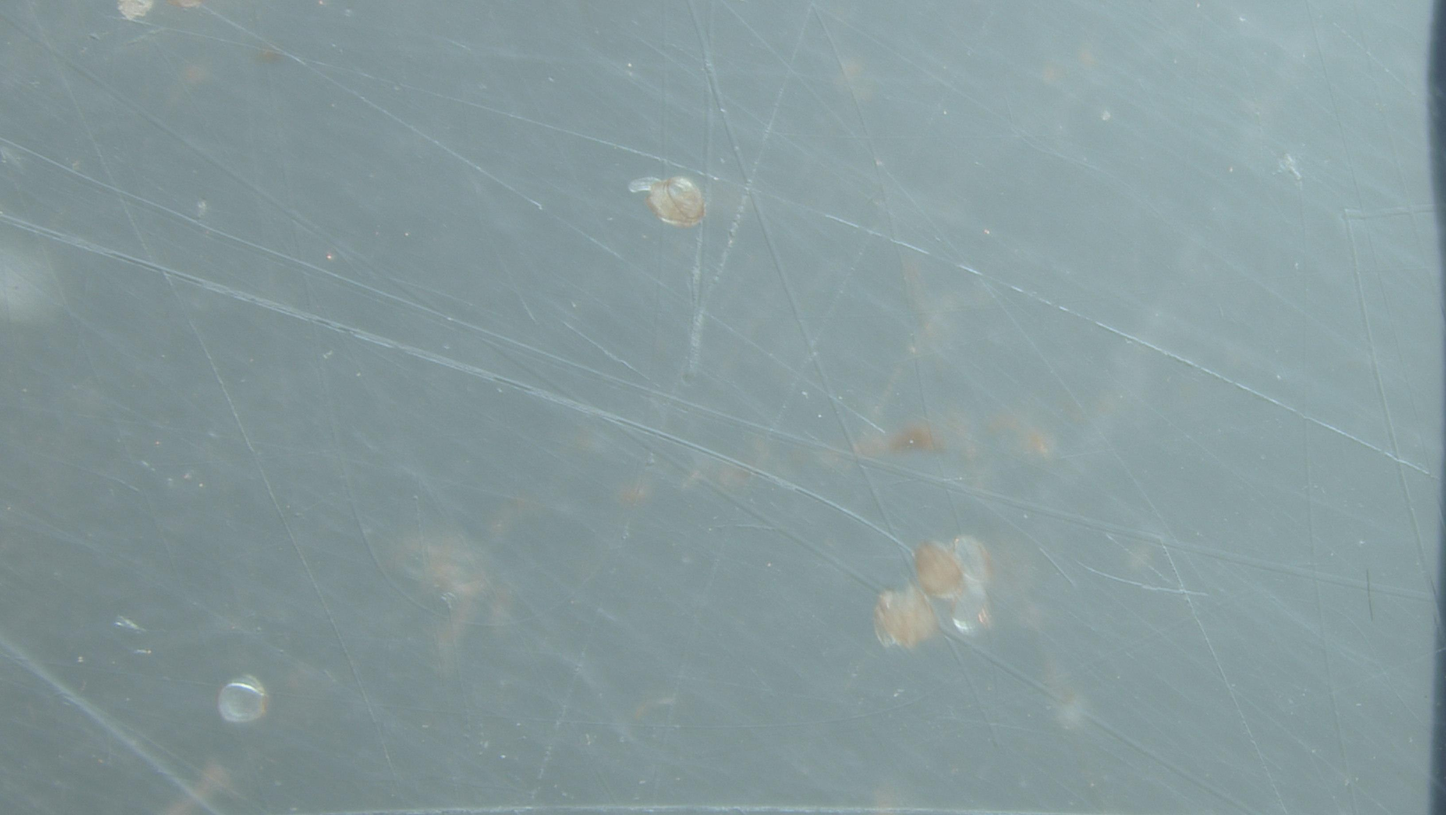dead: (945, 578, 990, 636), (218, 676, 269, 724), (955, 537, 992, 586)
live: (875, 584, 937, 648), (629, 177, 705, 228), (915, 542, 964, 598)
